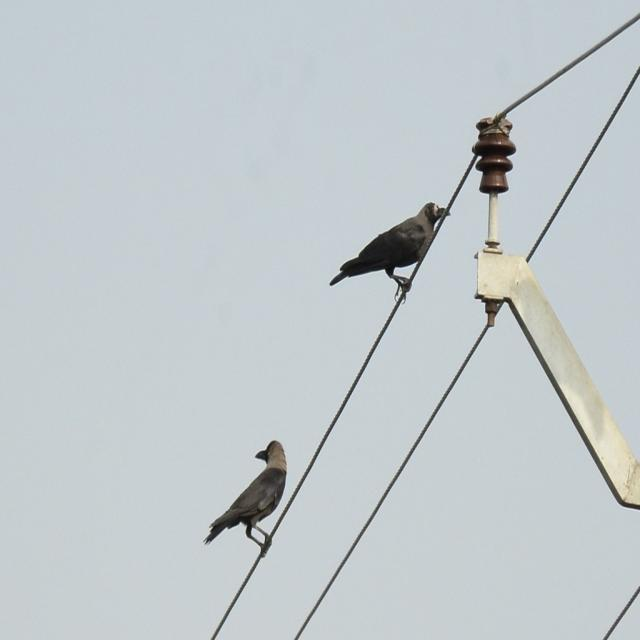bird: (327, 199, 453, 308), (201, 435, 290, 560)
